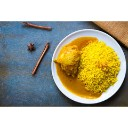briyani: (58, 44, 120, 92)
